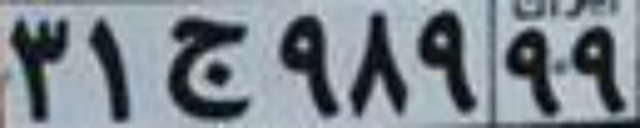1: (85, 18, 138, 120)
3: (7, 17, 72, 121)
8: (345, 13, 408, 116)
9: (415, 11, 477, 113), (277, 12, 337, 116), (501, 28, 564, 115), (570, 26, 627, 114)
jim: (168, 19, 255, 118)
